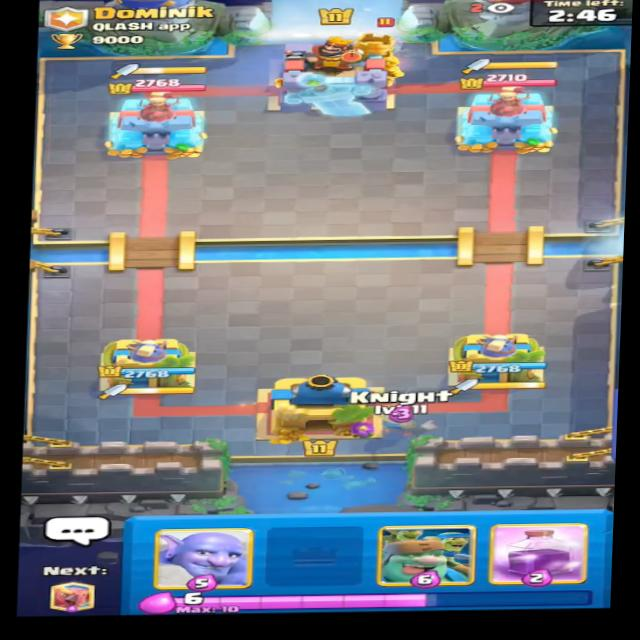royal-ghost: (363, 22, 404, 62)
